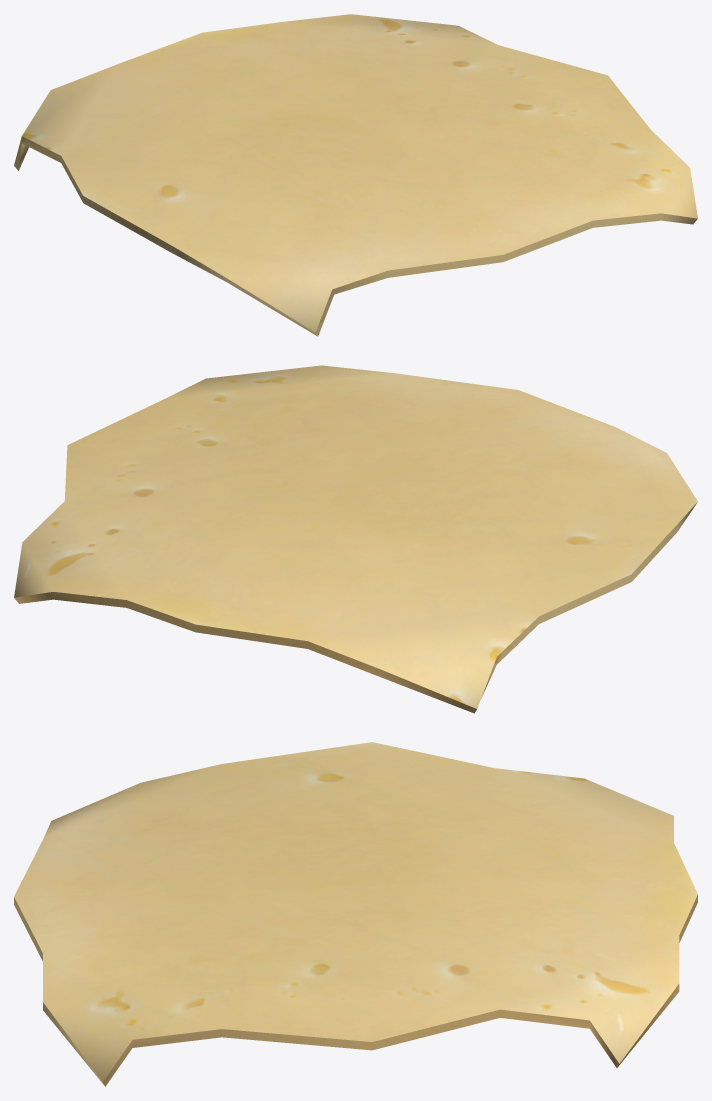
File: cheese (1).FBX
The picture shows the model from 3 angles, top to bottom: view 1: azimuth 30°, elevation 25°; view 2: azimuth 150°, elevation 25°; view 3: azimuth 270°, elevation 25°; orthographic projection. The views are drawn at different scales.
Parts seen in each view (by area): view 1: cheese_LOD00; view 2: cheese_LOD00; view 3: cheese_LOD00.
Part boxes in pixels (x1,y1,x2,y2): cheese_LOD00: [14, 14, 697, 336]; cheese_LOD00: [14, 365, 697, 713]; cheese_LOD00: [14, 742, 697, 1086].
Size of what is drawn, in the model's own units: 12.9 by 1.65 by 12.81.
1 material, 1 textured.
